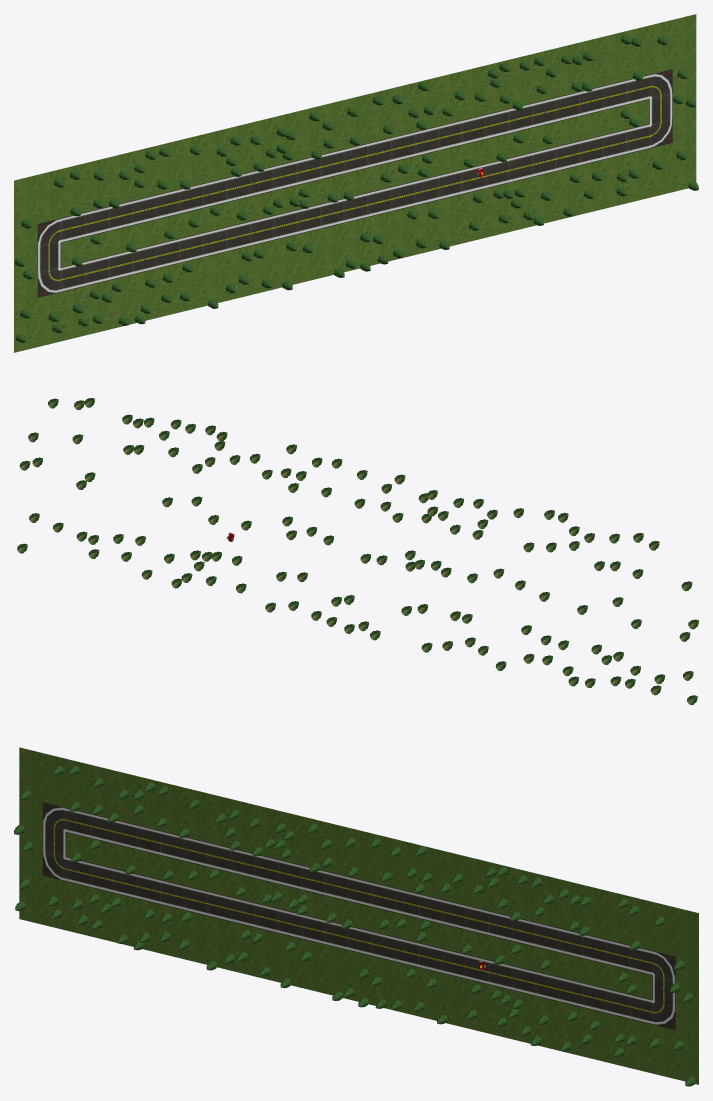
File: main.glb
3 renders of one model, top to bottom at view 1: azimuth 30°, elevation 25°; view 2: azimuth 150°, elevation 25°; view 3: azimuth 330°, elevation 25°, orthographic.
Parts seen in each view (by area): view 1: tile-11-2, tile-28-5, tile-5-4, tile-11-4, tile-22-4, tile-24-3, tile-7-2, tile-9-2, tile-22-2, tile-24-2, tile-28-6, tile-26-2 (+158 smaller); view 2: no part large enough to name; view 3: tile-1-5, tile-1-4, tile-17-4, tile-1-3, tile-24-3, tile-8-4, tile-1-2, tile-8-2, tile-17-2, tile-24-2, tile-8-1, tile-24-4 (+154 smaller).
Part boxes in pixels (x1,y1,x2,y2): tile-11-2: (272,210,296,240); tile-28-5: (672,39,696,68); tile-5-4: (131,195,155,225); tile-11-4: (272,161,296,190); tile-22-4: (531,98,555,127); tile-24-3: (578,111,602,140); tile-7-2: (178,233,202,263); tile-9-2: (225,222,249,251); tile-22-2: (531,147,555,177); tile-24-2: (578,135,602,165); tile-28-6: (672,14,696,44); tile-26-2: (625,124,649,154); tile-1-5: (42,777,66,807); tile-1-4: (42,802,66,832); tile-17-4: (417,893,441,923); tile-1-3: (42,827,66,856); tile-24-3: (581,958,605,988); tile-8-4: (206,842,230,872); tile-1-2: (42,851,66,881); tile-8-2: (206,891,230,921); tile-17-2: (417,943,441,972); tile-24-2: (581,983,605,1012); tile-8-1: (206,916,230,945); tile-24-4: (581,935,605,963).
Bounding box in the file's own units: 16.99 × 4.15 × 0.3574.
Materials: 12 (5 with a texture image).
